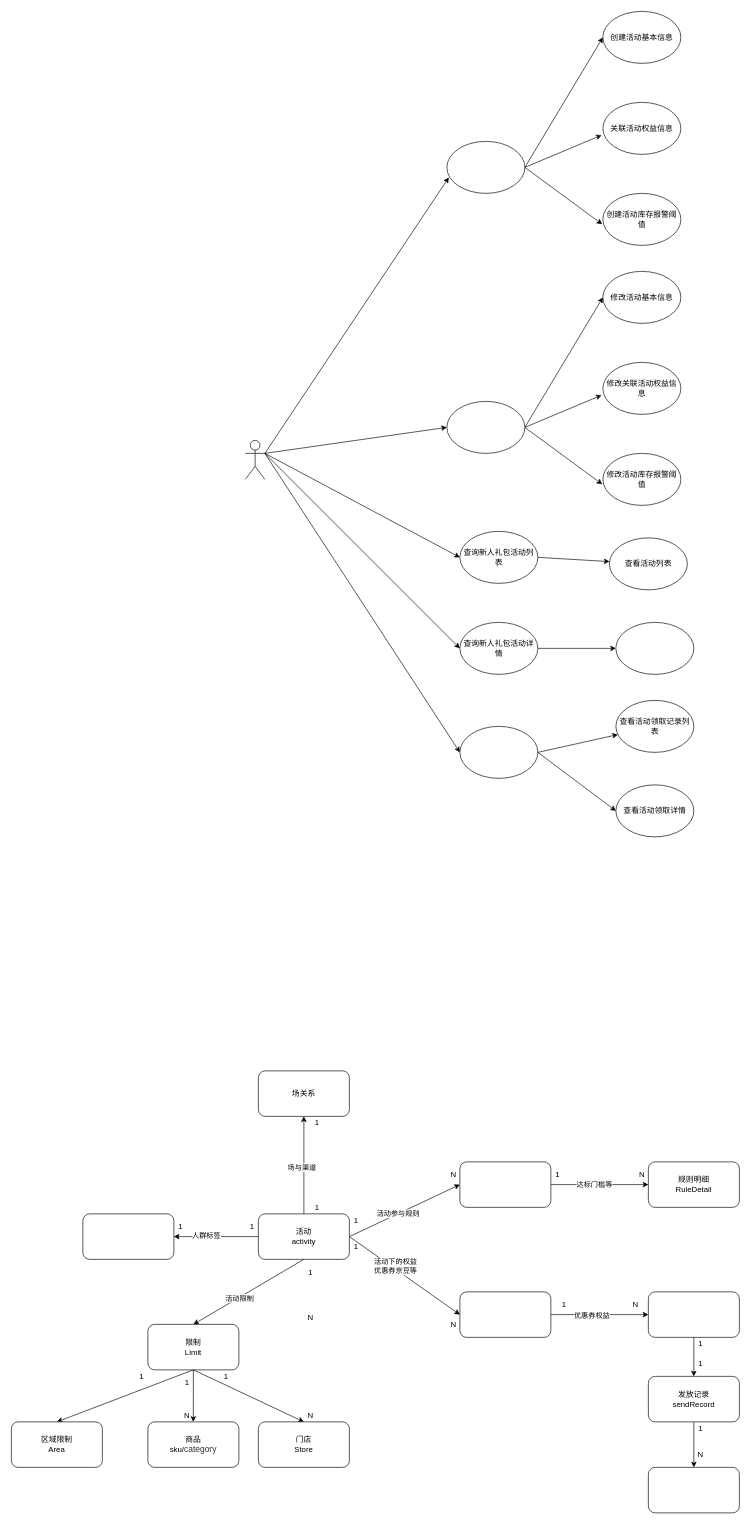
The diagram is 751 pixels wide and 1524 high, and some of its shapes have lost their labels. Each missing label, with the centre of its shape:
"Actor" belongs at (x=255, y=459).
"优惠券权益 coupon" belongs at (x=693, y=1314).
"创建新人礼包活动" belongs at (x=485, y=167).
"发放流水 sendFlow" belongs at (x=693, y=1490).
"权益 resource" belongs at (x=505, y=1314).
"查看活动详情" belongs at (x=654, y=648).
"查看活动领取记录" belongs at (x=498, y=752).
"用户标签 UserTag" belongs at (x=128, y=1236).
"编辑新人礼包活动" belongs at (x=485, y=427).
"规则 rule" belongs at (x=505, y=1184).
